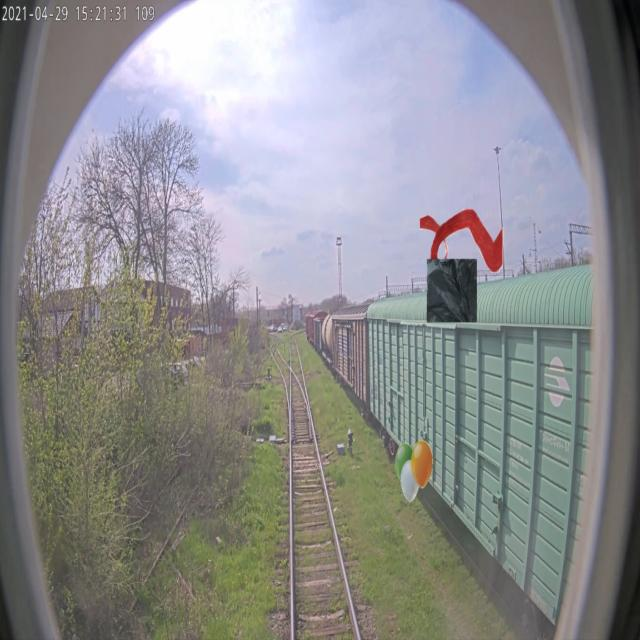balloon: (395, 439, 433, 504)
floating object: (420, 208, 504, 272)
plastic bag: (427, 258, 477, 322)
